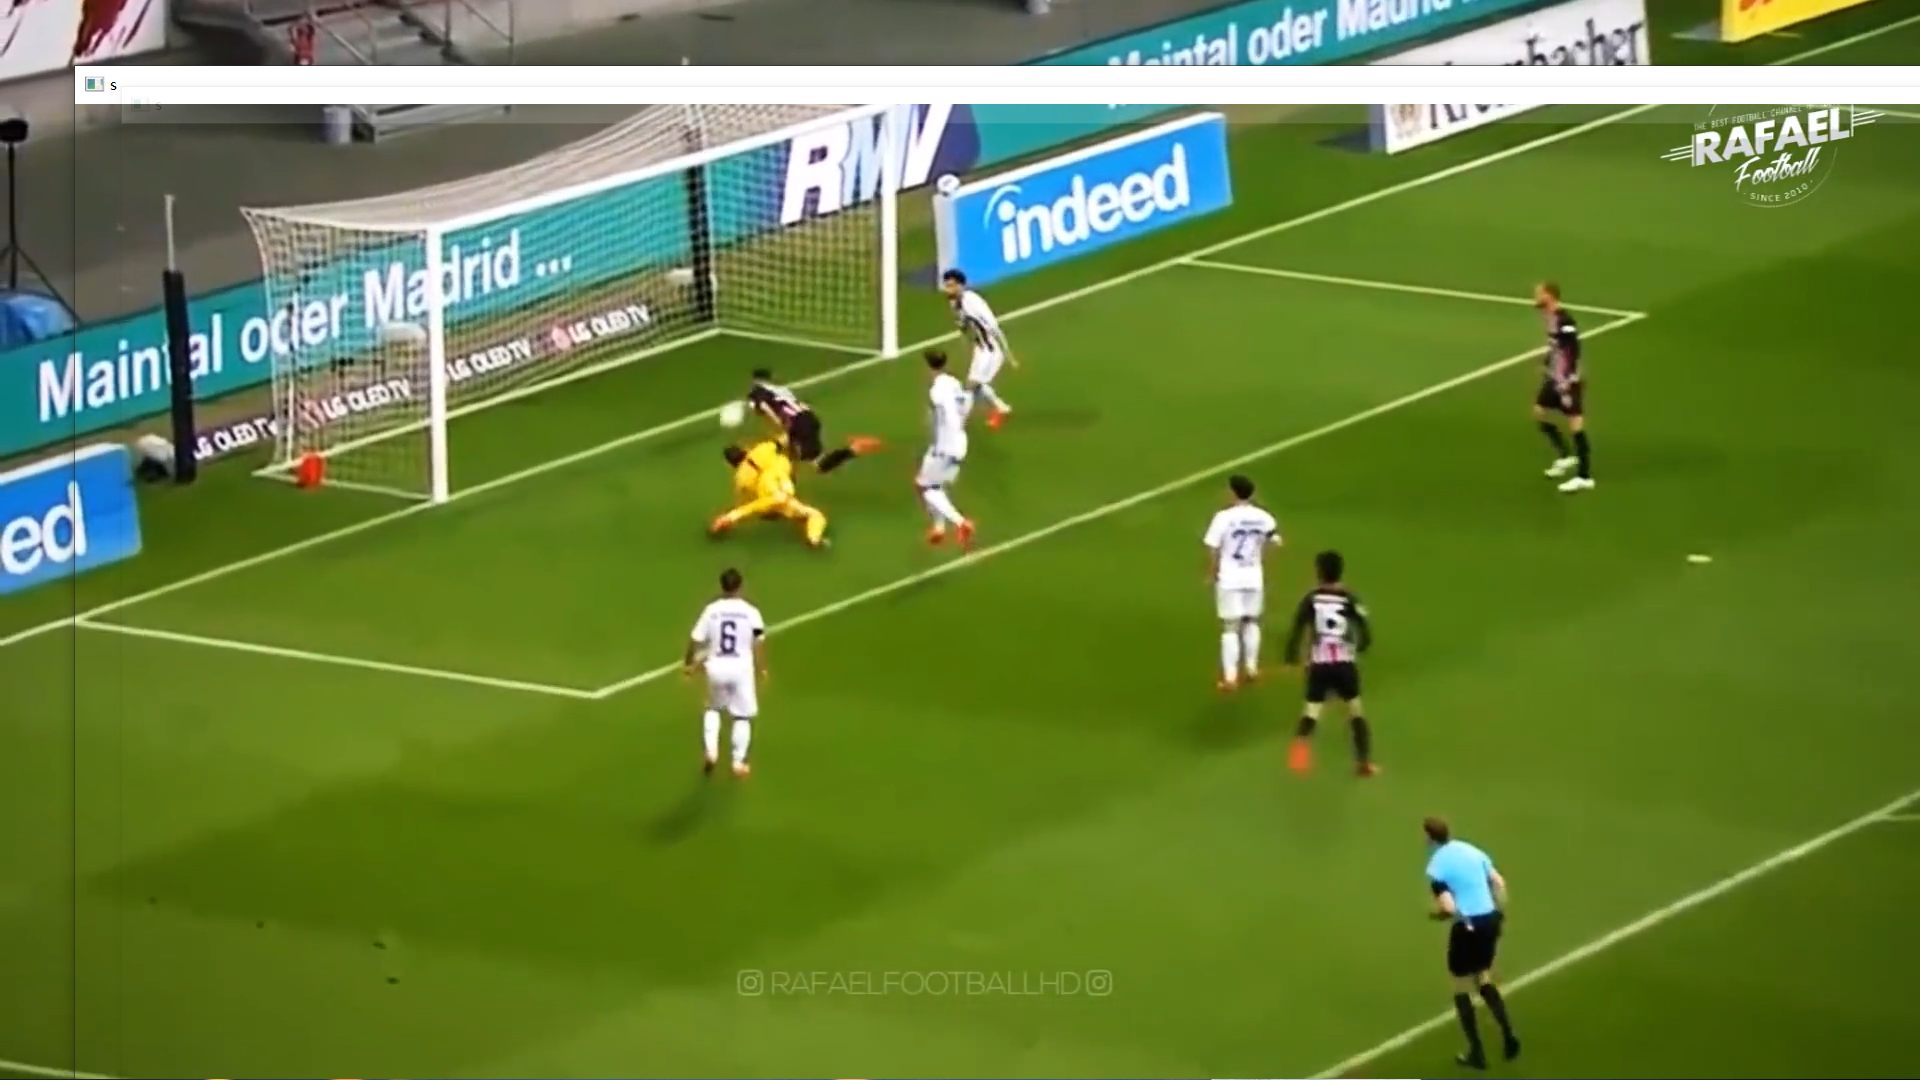ft: (716, 397, 750, 436)
